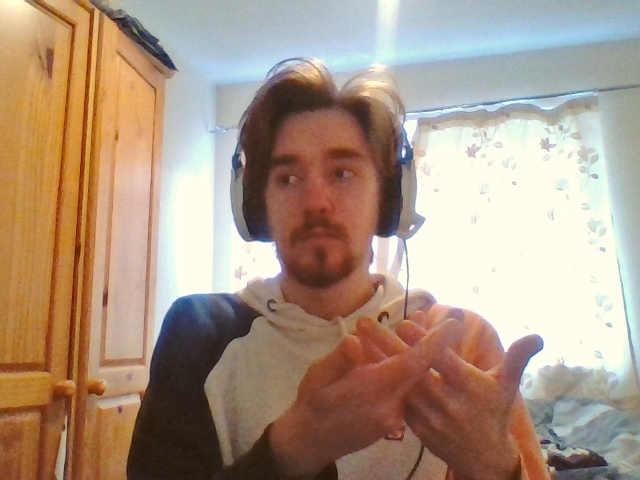how: (291, 311, 545, 452)
